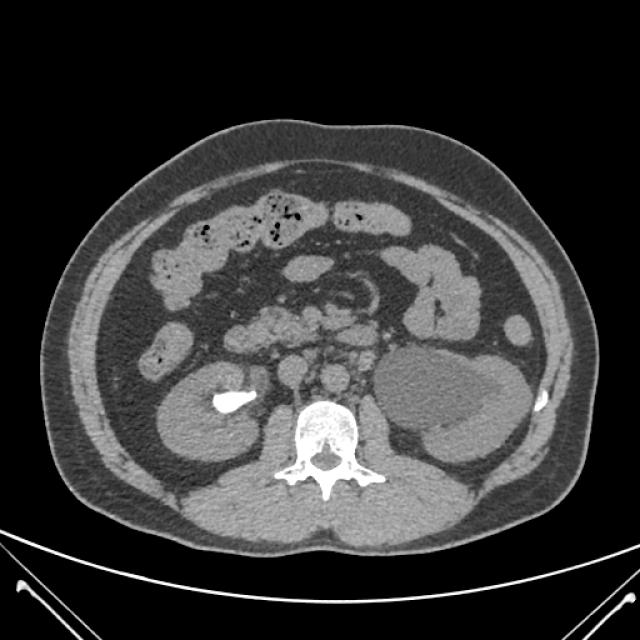kidneystone: (212, 392, 256, 413)
